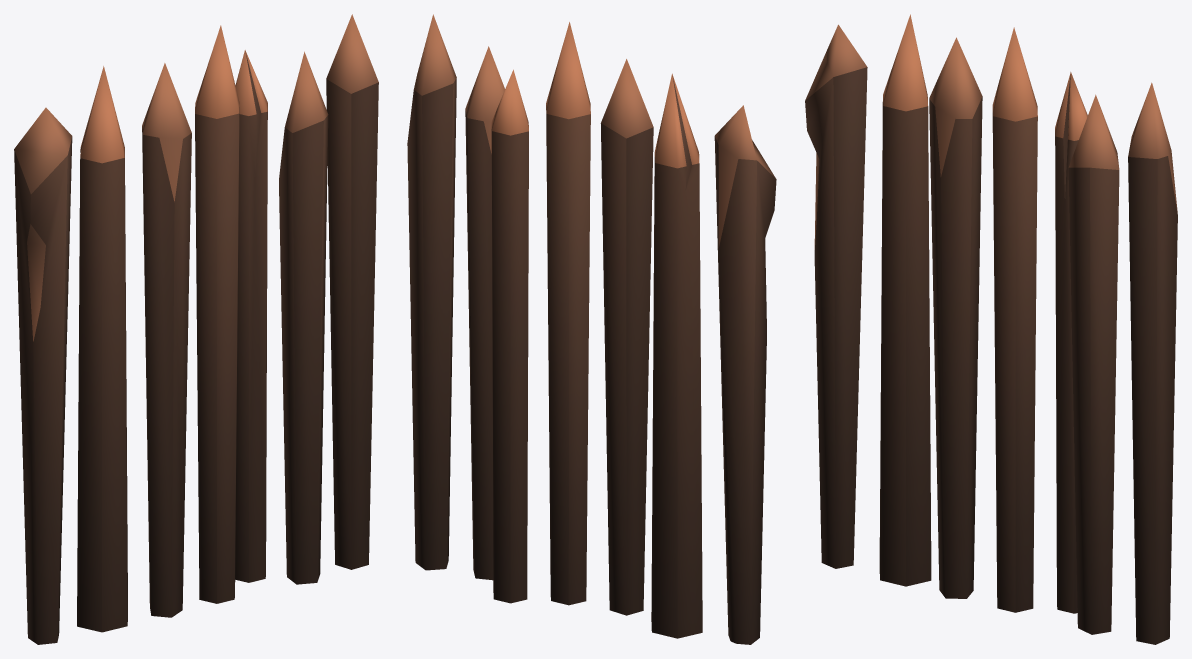
The model's file is Palisade_1C.fbx.
The picture shows the model from 3 angles, left to right: view 1: azimuth 30°, elevation 25°; view 2: azimuth 150°, elevation 25°; view 3: azimuth 330°, elevation 25°; orthographic projection.
Parts seen in each view (by area): view 1: Palisade_1C; view 2: Palisade_1C; view 3: Palisade_1C.
Part boxes in pixels (<box>): Palisade_1C: <box>14,14,378,644</box>; Palisade_1C: <box>407,14,776,644</box>; Palisade_1C: <box>805,14,1177,644</box>.
Size of the model in its own units: 189 by 294 by 35.83.
